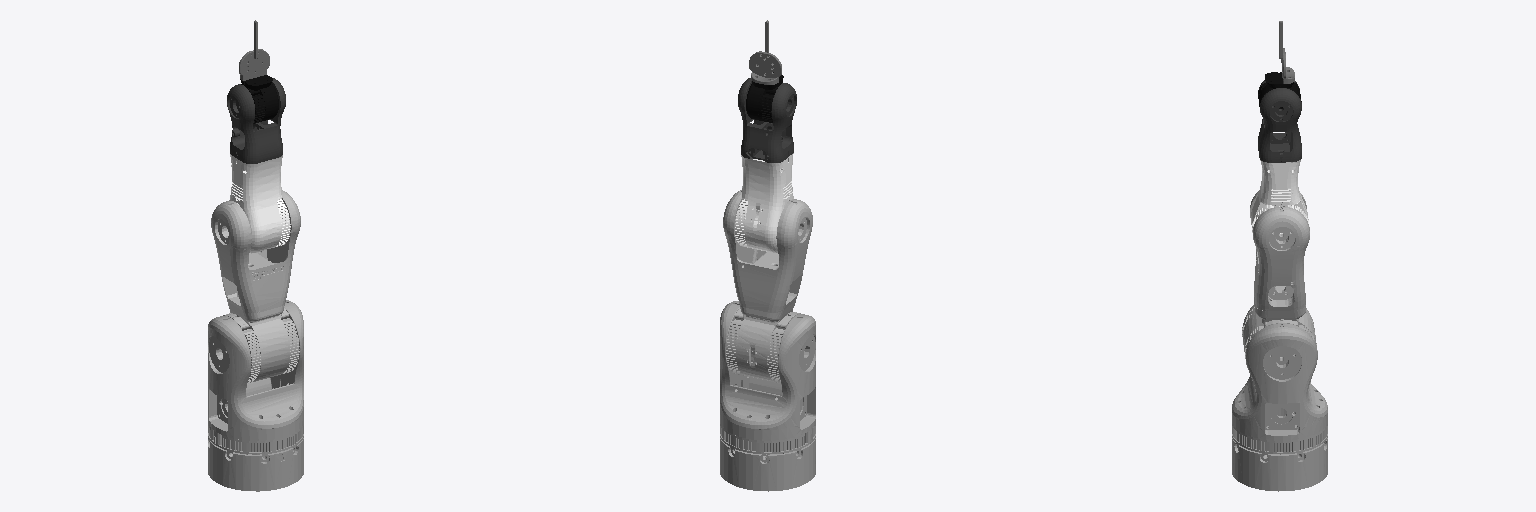
robot.urdf — Assemverb2.SLDASM:
<?xml version="1.0" encoding="utf-8"?>
<!-- This URDF was automatically created by SolidWorks to URDF Exporter! Originally created by Stephen Brawner (brawner@gmail.com) 
     Commit Version: 1.6.0-4-g7f85cfe  Build Version: 1.6.7995.38578
     For more information, please see http://wiki.ros.org/sw_urdf_exporter -->
<robot
  name="Assemverb2.SLDASM">
  <link
    name="base_link">
    <inertial>
      <origin
        xyz="-8.99703835377457E-07 1.44813398747021E-05 0.0371569473494335"
        rpy="0 0 0" />
      <mass
        value="0.790594528269448" />
      <inertia
        ixx="0.00187849284585079"
        ixy="-5.45813863913631E-08"
        ixz="1.1895404376199E-08"
        iyy="0.00187939140379609"
        iyz="-1.94201971876243E-07"
        izz="0.00325348139510768" />
    </inertial>
    <visual>
      <origin
        xyz="0 0 0"
        rpy="0 0 0" />
      <geometry>
        <mesh
          filename="package://Assemverb2.SLDASM/meshes/base_link.STL" />
      </geometry>
      <material
        name="">
        <color
          rgba="0.698039215686274 0.698039215686274 0.698039215686274 1" />
      </material>
    </visual>
    <collision>
      <origin
        xyz="0 0 0"
        rpy="0 0 0" />
      <geometry>
        <mesh
          filename="package://Assemverb2.SLDASM/meshes/base_link.STL" />
      </geometry>
    </collision>
  </link>
  <link
    name="shoulder_link">
    <inertial>
      <origin
        xyz="9.1411464284087E-05 -7.33744739910422E-06 0.0830967402337116"
        rpy="0 0 0" />
      <mass
        value="1.98324704204296" />
      <inertia
        ixx="0.00850077427297222"
        ixy="-0.000109583837926556"
        ixz="-4.90979045064893E-07"
        iyy="0.0104052246462665"
        iyz="-4.88153062546777E-07"
        izz="0.00782255141819798" />
    </inertial>
    <visual>
      <origin
        xyz="0 0 0"
        rpy="0 0 0" />
      <geometry>
        <mesh
          filename="package://Assemverb2.SLDASM/meshes/shoulder_link.STL" />
      </geometry>
      <material
        name="">
        <color
          rgba="0.698039215686274 0.698039215686274 0.698039215686274 1" />
      </material>
    </visual>
    <collision>
      <origin
        xyz="0 0 0"
        rpy="0 0 0" />
      <geometry>
        <mesh
          filename="package://Assemverb2.SLDASM/meshes/shoulder_link.STL" />
      </geometry>
    </collision>
  </link>
  <joint
    name="base -&gt; shoulder"
    type="revolute">
    <origin
      xyz="0 0 0.067"
      rpy="0 0 0" />
    <parent
      link="base_link" />
    <child
      link="shoulder_link" />
    <axis
      xyz="0 0 1" />
    <limit
      lower="-3.14"
      upper="3.14"
      effort="0"
      velocity="0" />
  </joint>
  <link
    name="arm_link">
    <inertial>
      <origin
        xyz="-0.0004482954141644 -4.66116537227404E-05 0.0759827945778009"
        rpy="0 0 0" />
      <mass
        value="1.78613144453619" />
      <inertia
        ixx="0.00482512085167815"
        ixy="-6.74804741949245E-06"
        ixz="-9.73846405590041E-06"
        iyy="0.00492323501600227"
        iyz="-3.79555408385173E-07"
        izz="0.00284397856505352" />
    </inertial>
    <visual>
      <origin
        xyz="0 0 0"
        rpy="0 0 0" />
      <geometry>
        <mesh
          filename="package://Assemverb2.SLDASM/meshes/arm_link.STL" />
      </geometry>
      <material
        name="">
        <color
          rgba="0.752941176470588 0.752941176470588 0.752941176470588 1" />
      </material>
    </visual>
    <collision>
      <origin
        xyz="0 0 0"
        rpy="0 0 0" />
      <geometry>
        <mesh
          filename="package://Assemverb2.SLDASM/meshes/arm_link.STL" />
      </geometry>
    </collision>
  </link>
  <joint
    name="shoulder-&gt;arm"
    type="revolute">
    <origin
      xyz="0 0 0.1655"
      rpy="0 0 0" />
    <parent
      link="shoulder_link" />
    <child
      link="arm_link" />
    <axis
      xyz="1 0 0" />
    <limit
      lower="-1.05"
      upper="1.05"
      effort="0"
      velocity="0" />
  </joint>
  <link
    name="forearm_link">
    <inertial>
      <origin
        xyz="0.000641996593531912 -4.85697634907116E-05 0.0379838854017001"
        rpy="0 0 0" />
      <mass
        value="0.654645218396928" />
      <inertia
        ixx="0.00195719252270712"
        ixy="1.57698327481016E-05"
        ixz="2.18075096521399E-06"
        iyy="0.00168342314572754"
        iyz="-4.73210736091153E-07"
        izz="0.000424251840263633" />
    </inertial>
    <visual>
      <origin
        xyz="0 0 0"
        rpy="0 0 0" />
      <geometry>
        <mesh
          filename="package://Assemverb2.SLDASM/meshes/forearm_link.STL" />
      </geometry>
      <material
        name="">
        <color
          rgba="1 1 1 1" />
      </material>
    </visual>
    <collision>
      <origin
        xyz="0 0 0"
        rpy="0 0 0" />
      <geometry>
        <mesh
          filename="package://Assemverb2.SLDASM/meshes/forearm_link.STL" />
      </geometry>
    </collision>
  </link>
  <joint
    name="arm-&gt;f-arm"
    type="revolute">
    <origin
      xyz="0 0 0.22112"
      rpy="0 0 0" />
    <parent
      link="arm_link" />
    <child
      link="forearm_link" />
    <axis
      xyz="1 0 0" />
    <limit
      lower="-1.57"
      upper="1.57"
      effort="0"
      velocity="0" />
  </joint>
  <link
    name="wrist_role_link">
    <inertial>
      <origin
        xyz="9.54156317996768E-05 -0.000884740756265492 0.0519873168097856"
        rpy="0 0 0" />
      <mass
        value="0.261351735906096" />
      <inertia
        ixx="0.000506015516745926"
        ixy="-4.71388351606066E-06"
        ixz="-7.66270259296463E-08"
        iyy="0.000591153337281233"
        iyz="-9.83176781066124E-06"
        izz="0.00028851867846162" />
    </inertial>
    <visual>
      <origin
        xyz="0 0 0"
        rpy="0 0 0" />
      <geometry>
        <mesh
          filename="package://Assemverb2.SLDASM/meshes/wrist_role_link.STL" />
      </geometry>
      <material
        name="">
        <color
          rgba="0.294117647058824 0.294117647058824 0.294117647058824 1" />
      </material>
    </visual>
    <collision>
      <origin
        xyz="0 0 0"
        rpy="0 0 0" />
      <geometry>
        <mesh
          filename="package://Assemverb2.SLDASM/meshes/wrist_role_link.STL" />
      </geometry>
    </collision>
  </link>
  <joint
    name="f-arm -&gt; wrist-r"
    type="revolute">
    <origin
      xyz="0.00099425 5.7102E-05 0.12715"
      rpy="0 0 0" />
    <parent
      link="forearm_link" />
    <child
      link="wrist_role_link" />
    <axis
      xyz="0 0 1" />
    <limit
      lower="-3.14"
      upper="3.14"
      effort="0"
      velocity="0" />
  </joint>
  <link
    name="wrist_pitch_liink">
    <inertial>
      <origin
        xyz="0.000381546261790661 2.19084101911131E-05 0.0037997959044358"
        rpy="0 0 0" />
      <mass
        value="0.157708118416037" />
      <inertia
        ixx="0.000105818370767743"
        ixy="2.19211558810105E-06"
        ixz="-1.75676433762378E-07"
        iyy="6.77756809817583E-05"
        iyz="-1.00688635540984E-08"
        izz="5.3306301626363E-05" />
    </inertial>
    <visual>
      <origin
        xyz="0 0 0"
        rpy="0 0 0" />
      <geometry>
        <mesh
          filename="package://Assemverb2.SLDASM/meshes/wrist_pitch_liink.STL" />
      </geometry>
      <material
        name="">
        <color
          rgba="0.0980392156862745 0.0980392156862745 0.0980392156862745 1" />
      </material>
    </visual>
    <collision>
      <origin
        xyz="0 0 0"
        rpy="0 0 0" />
      <geometry>
        <mesh
          filename="package://Assemverb2.SLDASM/meshes/wrist_pitch_liink.STL" />
      </geometry>
    </collision>
  </link>
  <joint
    name="wrist-r -&gt; wrist-p"
    type="revolute">
    <origin
      xyz="0 0 0.09525"
      rpy="0 0 0" />
    <parent
      link="wrist_role_link" />
    <child
      link="wrist_pitch_liink" />
    <axis
      xyz="1 0 0" />
    <limit
      lower="-1.57"
      upper="1.57"
      effort="0"
      velocity="0" />
  </joint>
  <link
    name="hand_link">
    <inertial>
      <origin
        xyz="0.00110627322402429 0.00818941946781205 -0.0817735959815917"
        rpy="0 0 0" />
      <mass
        value="0.01756357281529" />
      <inertia
        ixx="4.26318903361138E-06"
        ixy="4.61437906079543E-09"
        ixz="-1.13110042593649E-08"
        iyy="7.5713901184074E-06"
        iyz="5.782688048925E-07"
        izz="4.07618249887436E-06" />
    </inertial>
    <visual>
      <origin
        xyz="0 0 0"
        rpy="0 0 0" />
      <geometry>
        <mesh
          filename="package://Assemverb2.SLDASM/meshes/hand_link.STL" />
      </geometry>
      <material
        name="">
        <color
          rgba="0.501960784313725 0.501960784313725 0.501960784313725 1" />
      </material>
    </visual>
    <collision>
      <origin
        xyz="0 0 0"
        rpy="0 0 0" />
      <geometry>
        <mesh
          filename="package://Assemverb2.SLDASM/meshes/hand_link.STL" />
      </geometry>
    </collision>
  </link>
  <joint
    name="wrist-p -&gt;hand"
    type="fixed">
    <origin
      xyz="-0.00099425 -5.7102E-05 0.14598"
      rpy="0 0 0.057369" />
    <parent
      link="wrist_pitch_liink" />
    <child
      link="hand_link" />
    <axis
      xyz="0 0 0" />
  </joint>
</robot>

--- Facts derived from the render (not from the file) ---
The picture shows the robot from 3 angles, left to right: view 1: azimuth 30°, elevation 25°; view 2: azimuth 150°, elevation 25°; view 3: azimuth 270°, elevation 25°; orthographic projection.
Model Assemverb2.SLDASM with 7 links and 6 joints (5 revolute, 1 fixed), rooted at base_link, posed every joint at zero.
Visible links, largest first — view 1: shoulder_link, arm_link, forearm_link, base_link, wrist_role_link, wrist_pitch_liink, hand_link; view 2: arm_link, shoulder_link, forearm_link, base_link, wrist_role_link, hand_link, wrist_pitch_liink; view 3: shoulder_link, arm_link, base_link, wrist_role_link, forearm_link, wrist_pitch_liink.
Boxes of the visible links, bbox=[...] form: shoulder_link: bbox=[208, 300, 303, 454]; arm_link: bbox=[211, 190, 300, 383]; forearm_link: bbox=[229, 154, 290, 253]; base_link: bbox=[208, 438, 303, 491]; wrist_role_link: bbox=[227, 78, 285, 163]; wrist_pitch_liink: bbox=[240, 75, 278, 123]; hand_link: bbox=[239, 20, 269, 80]; arm_link: bbox=[723, 190, 812, 382]; shoulder_link: bbox=[720, 301, 815, 454]; forearm_link: bbox=[735, 153, 793, 252]; base_link: bbox=[720, 438, 815, 491]; wrist_role_link: bbox=[738, 78, 796, 162]; hand_link: bbox=[749, 20, 781, 84]; wrist_pitch_liink: bbox=[746, 72, 783, 122]; shoulder_link: bbox=[1232, 305, 1327, 454]; arm_link: bbox=[1242, 191, 1317, 358]; base_link: bbox=[1232, 438, 1327, 491]; wrist_role_link: bbox=[1258, 80, 1301, 162]; forearm_link: bbox=[1251, 160, 1309, 234]; wrist_pitch_liink: bbox=[1258, 72, 1301, 108].
Size in the robot's own frame: 0.16 by 0.16 by 0.8218 metres.
Meshes: 7 distinct files referenced, 7 mesh visuals loaded (7 binary STL).
